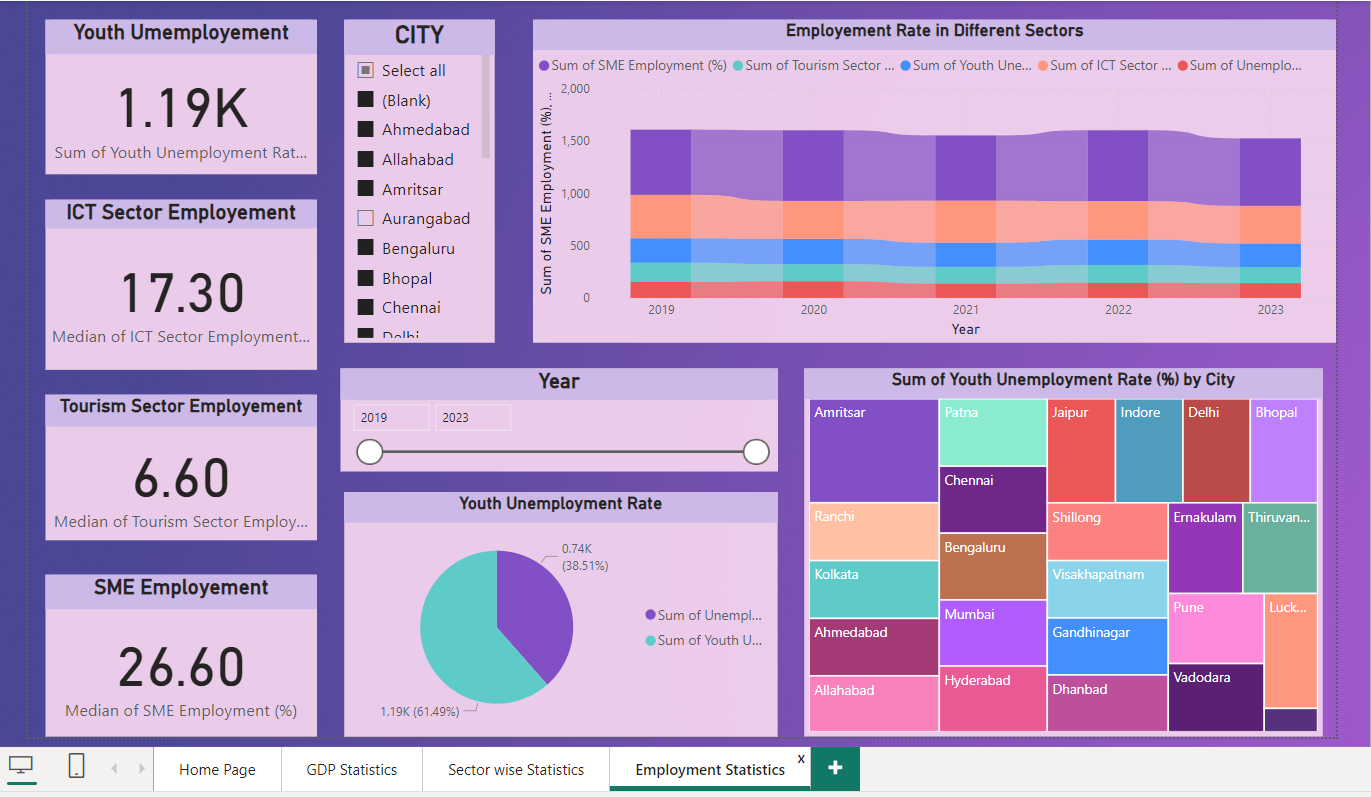

The page's visual inventory and layout, read from the dashboard file:
{"tool":"powerbi","page":{"name":"Employment Statistics","canvas":[1280,720],"ordinal":3},"visuals":[{"type":"treemap","fields":{"Values":["Sum(Sheet1.Youth Unemployment Rate (%))"],"Group":["Sheet1.City"]},"box":[759.7,359.9,507.3,359.9],"z":0},{"type":"card","title":"Youth Umemployement","fields":{"Values":["Sum(Sheet1.Youth Unemployment Rate (%))"]},"box":[17.3,18.6,265.6,151.4],"z":1000},{"type":"card","title":"Tourism Sector Employement","fields":{"Values":["Median(Sheet1.Tourism Sector Employment (%))"]},"box":[17.3,385.1,265.6,142.1],"z":2000},{"type":"card","title":"SME Employement","fields":{"Values":["Median(Sheet1.SME Employment (%))"]},"box":[17.3,561.8,265.6,158],"z":3000},{"type":"card","title":"ICT Sector Employement","fields":{"Values":["Median(Sheet1.ICT Sector Employment (%))"]},"box":[17.3,193.9,265.6,166],"z":4000},{"type":"ribbonChart","title":"Employement Rate in Different Sectors","fields":{"Category":["Sheet1.Year"],"Y":["Sum(Sheet1.SME Employment (%))","Sum(Sheet1.Tourism Sector Employment (%))","Sum(Sheet1.Youth Unemployment Rate (%))","Sum(Sheet1.ICT Sector Employment (%))","Sum(Sheet1.Unemployment Rate (%))"]},"box":[494,18.6,786.2,316.1],"z":5000},{"type":"pieChart","title":"Youth Unemployment Rate","fields":{"Y":["Sum(Sheet1.Unemployment Rate (%))","Sum(Sheet1.Youth Unemployment Rate (%))"]},"box":[309.4,480.8,423.7,239.1],"z":6000},{"type":"slicer","title":"Year","fields":{"Values":["Sheet1.Year"]},"box":[305.5,359.9,427.6,100.9],"z":7000},{"type":"slicer","title":"CITY","fields":{"Values":["Sheet1.City"]},"box":[309.4,18.6,147.4,316.1],"z":8000}]}

Visuals, with their boxes in screenshot pixels (x1, y1, x2, y2):
treemap - Sum(Sheet1.Youth Unemployment Rate (%)) x Sheet1.City: 799,367,1316,733
"Youth Umemployement" card: 43,19,313,173
"Tourism Sector Employement" card: 43,392,313,537
"SME Employement" card: 43,572,313,733
"ICT Sector Employement" card: 43,198,313,367
"Employement Rate in Different Sectors" ribbonChart: 528,19,1329,341
"Youth Unemployment Rate" pieChart: 340,490,772,733
"Year" slicer: 336,367,772,469
"CITY" slicer: 340,19,490,341
